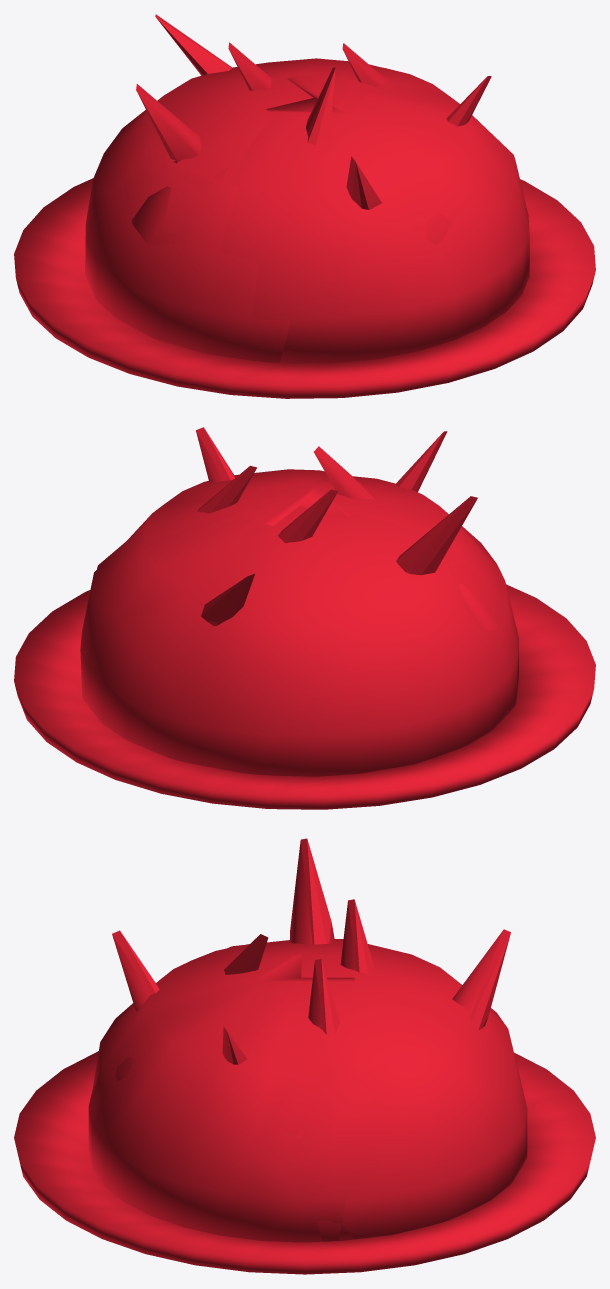
Rendered from carrotCake.fbx.
3 views of the same model, one above another, from view 1: azimuth 30°, elevation 25°; view 2: azimuth 150°, elevation 25°; view 3: azimuth 270°, elevation 25° (orthographic).
Parts seen in each view (by area): view 1: carrot cake; view 2: carrot cake; view 3: carrot cake.
Part boxes in pixels (x1,y1,x2,y2): carrot cake: (14,14,595,398); carrot cake: (14,427,595,809); carrot cake: (14,838,595,1274).
Size of the model in its own units: 178 by 88.06 by 178.
